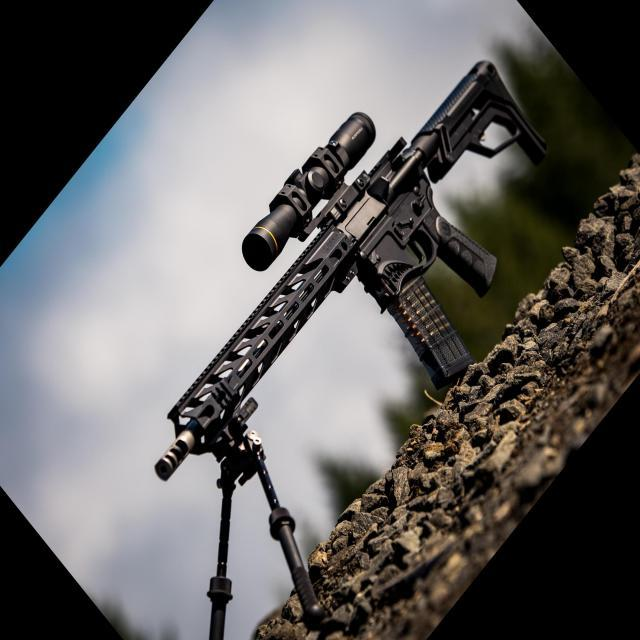weapon: (152, 60, 550, 640)
